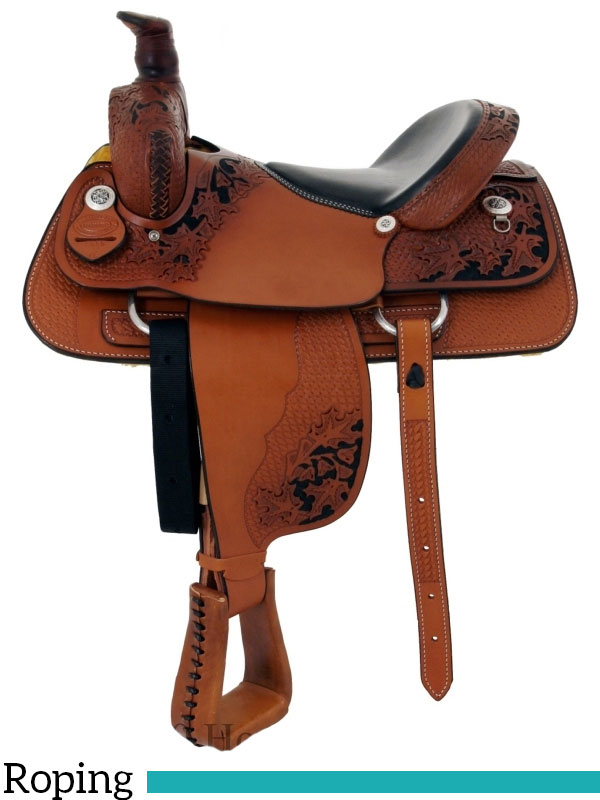saddleq: (45, 12, 587, 673)
